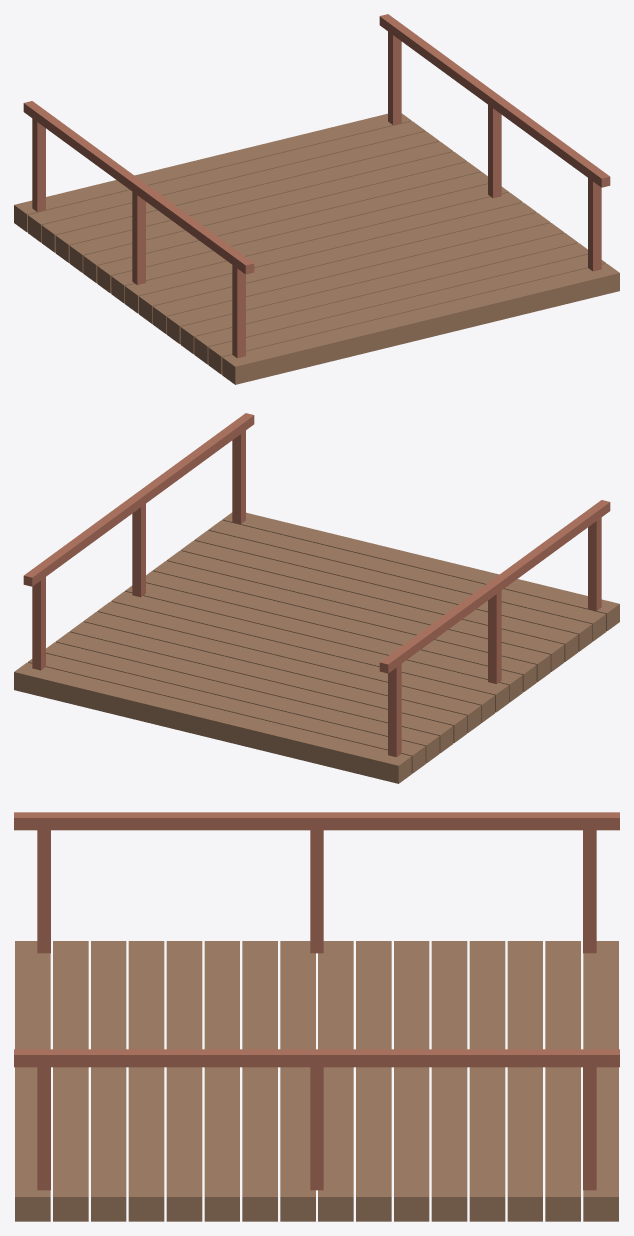
File: sunland_bridge.glb
3 renders of one model, top to bottom at view 1: azimuth 30°, elevation 25°; view 2: azimuth 150°, elevation 25°; view 3: azimuth 270°, elevation 25°, orthographic. The views are drawn at different scales.
Parts seen in each view (by area): view 1: Plank.016, Plank.021, Plank.019, Plank.020, Plank.018, Plank.022, Plank.023, Plank.030, Plank.017, Plank.029, Plank.027, Plank.026 (+12 smaller); view 2: Plank.031, Plank.026, Plank.027, Plank.028, Plank.029, Plank.025, Plank.024, Plank.017, Plank.030, Plank.018, Plank.020, Plank.021 (+12 smaller); view 3: RedRail, RedRail.001, Plank.019, Plank.020, Plank.027, Plank.028, Plank.017, Plank.022, Plank.025, Plank.030, Plank.018, Plank.021 (+12 smaller).
Part boxes in pixels (left/top/right/bottom): Plank.016: left=222, top=263, right=619, bottom=384; Plank.021: left=152, top=212, right=550, bottom=333; Plank.019: left=180, top=233, right=578, bottom=354; Plank.020: left=166, top=223, right=564, bottom=343; Plank.018: left=194, top=243, right=587, bottom=364; Plank.022: left=139, top=202, right=536, bottom=323; Plank.023: left=125, top=192, right=522, bottom=313; Plank.030: left=28, top=121, right=425, bottom=242; Plank.017: left=208, top=254, right=605, bottom=374; Plank.029: left=41, top=131, right=439, bottom=252; Plank.027: left=69, top=152, right=467, bottom=272; Plank.026: left=83, top=162, right=481, bottom=283; Plank.031: left=14, top=662, right=411, bottom=783; Plank.026: left=83, top=611, right=481, bottom=732; Plank.027: left=69, top=622, right=467, bottom=742; Plank.028: left=55, top=632, right=453, bottom=753; Plank.029: left=46, top=642, right=439, bottom=763; Plank.025: left=97, top=601, right=494, bottom=722; Plank.024: left=111, top=591, right=508, bottom=712; Plank.017: left=208, top=520, right=605, bottom=641; Plank.030: left=28, top=653, right=425, bottom=773; Plank.018: left=194, top=530, right=592, bottom=651; Plank.020: left=166, top=551, right=564, bottom=671; Plank.021: left=152, top=561, right=550, bottom=682; RedRail: left=14, top=812, right=619, bottom=830; RedRail.001: left=14, top=1049, right=619, bottom=1067; Plank.019: left=128, top=941, right=164, bottom=1221; Plank.020: left=166, top=941, right=202, bottom=1221; Plank.027: left=431, top=941, right=467, bottom=1221; Plank.028: left=469, top=941, right=505, bottom=1221; Plank.017: left=53, top=941, right=88, bottom=1221; Plank.022: left=242, top=941, right=277, bottom=1221; Plank.025: left=356, top=941, right=391, bottom=1221; Plank.030: left=545, top=941, right=580, bottom=1221; Plank.018: left=91, top=941, right=126, bottom=1221; Plank.021: left=204, top=941, right=239, bottom=1221.
Bounding box in the file's own units: 4 × 1.17 × 4.
